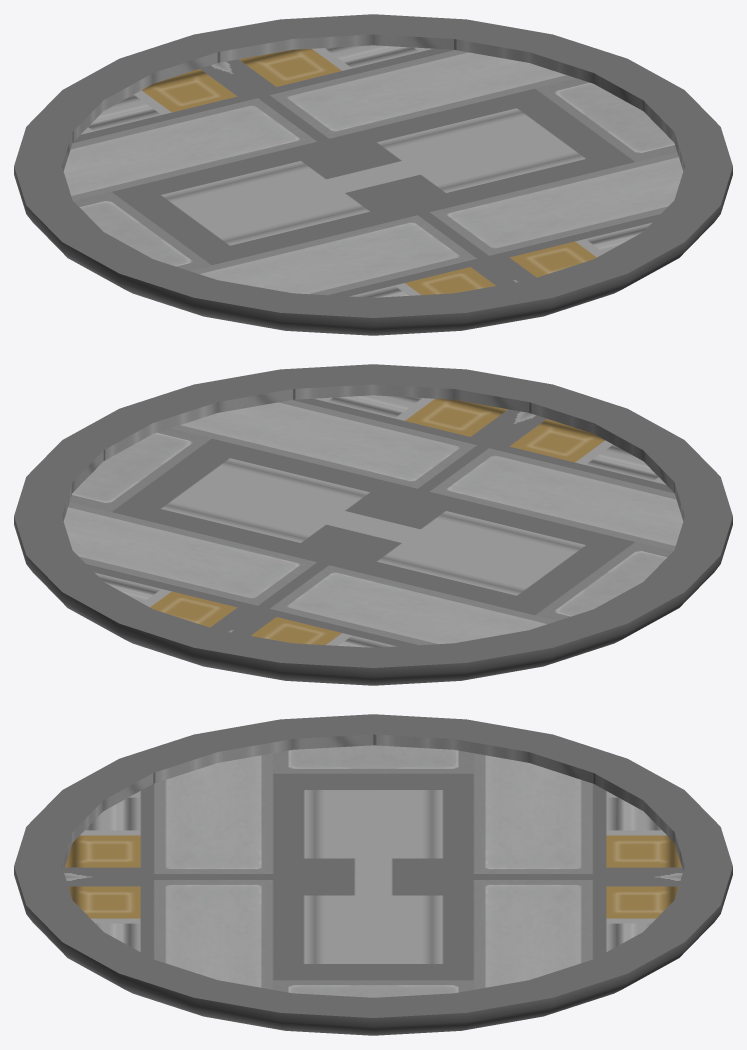
File: Alnair_Heatshield_1.obj
3 renders of one model, top to bottom at view 1: azimuth 30°, elevation 25°; view 2: azimuth 150°, elevation 25°; view 3: azimuth 270°, elevation 25°, orthographic.
Visible parts, largest first — view 1: Alnair_Heatshield_1; view 2: Alnair_Heatshield_1; view 3: Alnair_Heatshield_1.
Part boxes in pixels (x1,y1,x2,y2): Alnair_Heatshield_1: (14,14,732,335); Alnair_Heatshield_1: (14,364,732,685); Alnair_Heatshield_1: (14,714,732,1035).
Bounding box in the file's own units: 1.88 × 0.2275 × 1.88.
